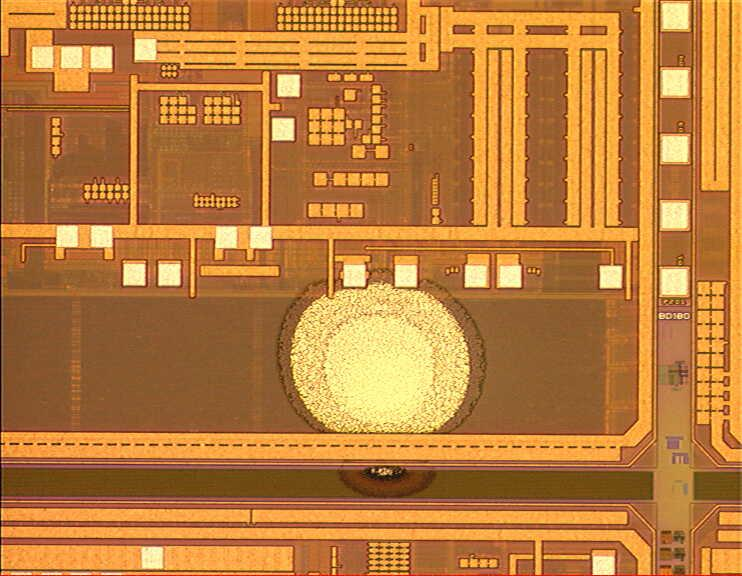BLOCK ETCH: (261, 259, 505, 503)
